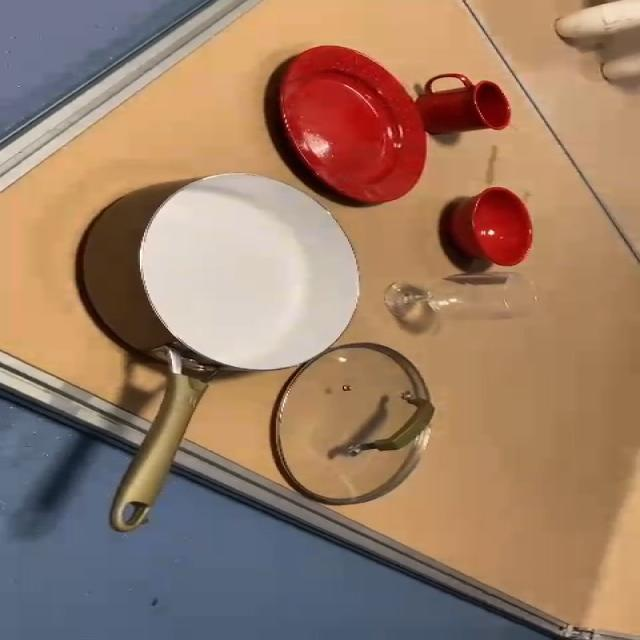Bowl: (447, 181, 538, 269)
Glass: (382, 268, 540, 318)
Plate: (267, 46, 440, 207)
cup: (413, 72, 522, 142)
pot: (87, 172, 368, 538)
